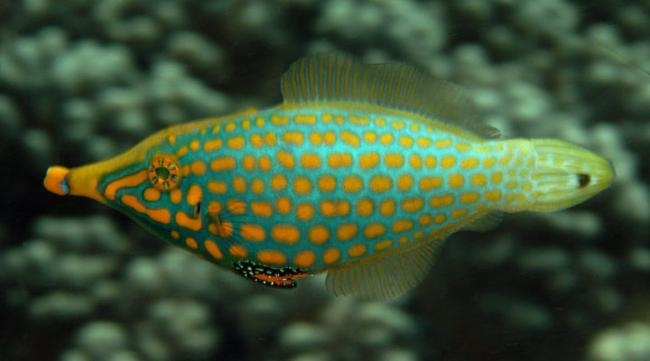fish: (43, 48, 615, 303)
